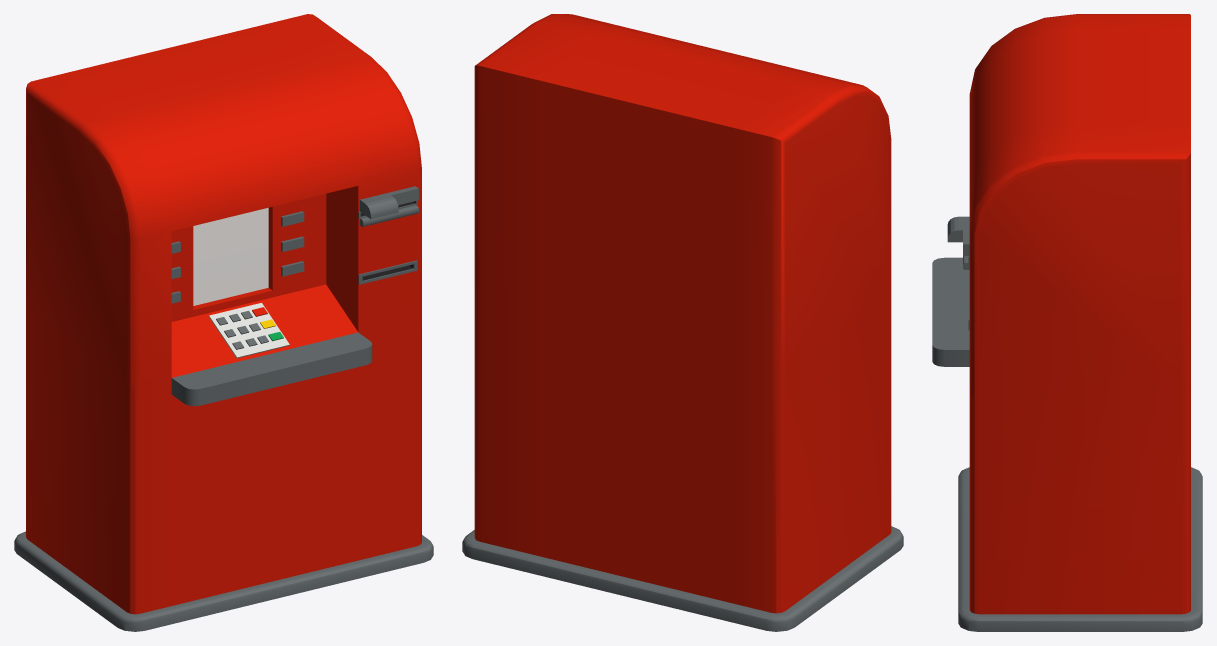
Rendered from atm-B.fbx.
3 renders of one model, left to right at view 1: azimuth 30°, elevation 25°; view 2: azimuth 150°, elevation 25°; view 3: azimuth 270°, elevation 25°, orthographic. The views are drawn at different scales.
Visible parts, largest first — view 1: 2. atm-B; view 2: 2. atm-B; view 3: 2. atm-B.
Boxes of the visible parts, x1,y1,x2,y2 form: 2. atm-B: [14, 14, 433, 631]; 2. atm-B: [462, 14, 903, 631]; 2. atm-B: [932, 14, 1202, 631].
Size of the model in its own units: 176 by 250 by 130.
1 material, 1 textured.
